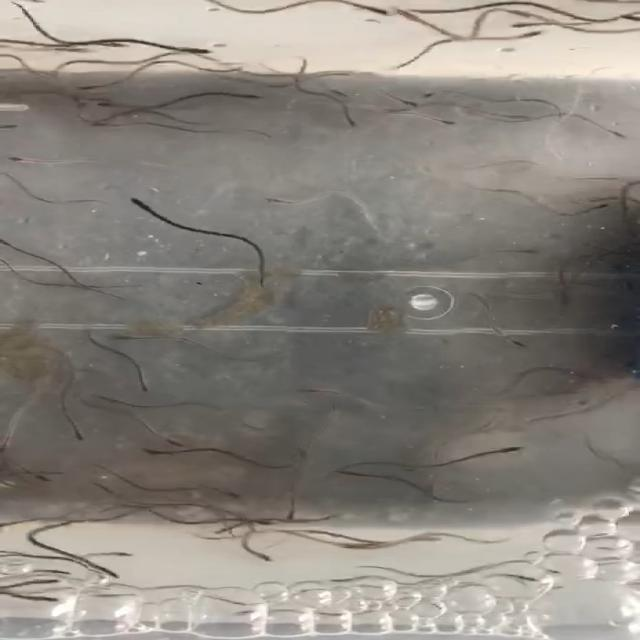active_glass_eel: (138, 37, 208, 61), (84, 98, 140, 122), (276, 0, 339, 21), (387, 534, 453, 551), (472, 241, 514, 267), (19, 590, 64, 614), (333, 104, 363, 140), (432, 112, 483, 133), (209, 87, 263, 106), (496, 319, 531, 348), (538, 156, 584, 178), (121, 192, 157, 217), (396, 6, 438, 26), (34, 30, 76, 50), (538, 16, 578, 36), (0, 231, 44, 249), (292, 376, 322, 402), (246, 543, 276, 568), (0, 429, 31, 452), (494, 25, 543, 39), (142, 516, 198, 528), (125, 478, 171, 492), (78, 74, 107, 96), (523, 98, 561, 114), (508, 570, 550, 584), (574, 404, 599, 427), (575, 195, 600, 218), (394, 96, 428, 112), (0, 152, 66, 160), (580, 94, 606, 114), (111, 329, 138, 348), (580, 220, 608, 238), (59, 426, 90, 442), (331, 469, 380, 479), (146, 432, 181, 446), (100, 561, 126, 579), (10, 89, 43, 103), (335, 538, 367, 552), (199, 548, 226, 564), (266, 192, 296, 206), (489, 444, 535, 453), (183, 532, 212, 546), (120, 380, 153, 392), (138, 449, 175, 458), (19, 579, 47, 590), (91, 57, 119, 68)
